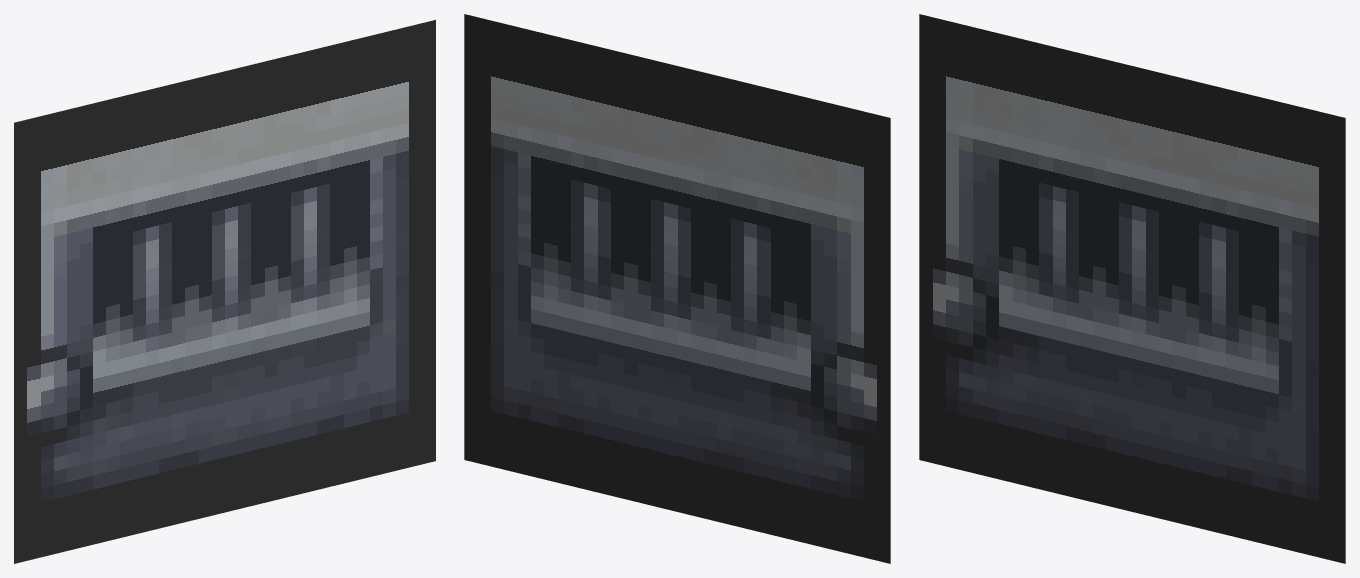
The model's file is Door_H_01.glb.
The picture shows the model from 3 angles, left to right: view 1: azimuth 30°, elevation 25°; view 2: azimuth 150°, elevation 25°; view 3: azimuth 330°, elevation 25°; orthographic projection.
Parts seen in each view (by area): view 1: pPlane6; view 2: pPlane6; view 3: pPlane6.
Part boxes in pixels (x1=…): pPlane6: x1=14, y1=20, x2=435, y2=563; pPlane6: x1=464, y1=14, x2=890, y2=563; pPlane6: x1=919, y1=14, x2=1345, y2=563.
Size of the model in its own units: 1 by 1.03 by 0.1.
Materials: 2 (2 with a texture image).
